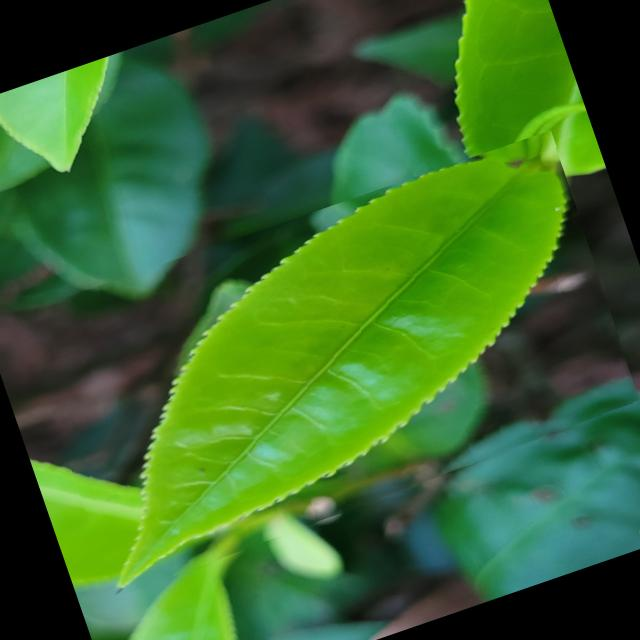Catagory A(1-2 days): (17, 128, 640, 596)
